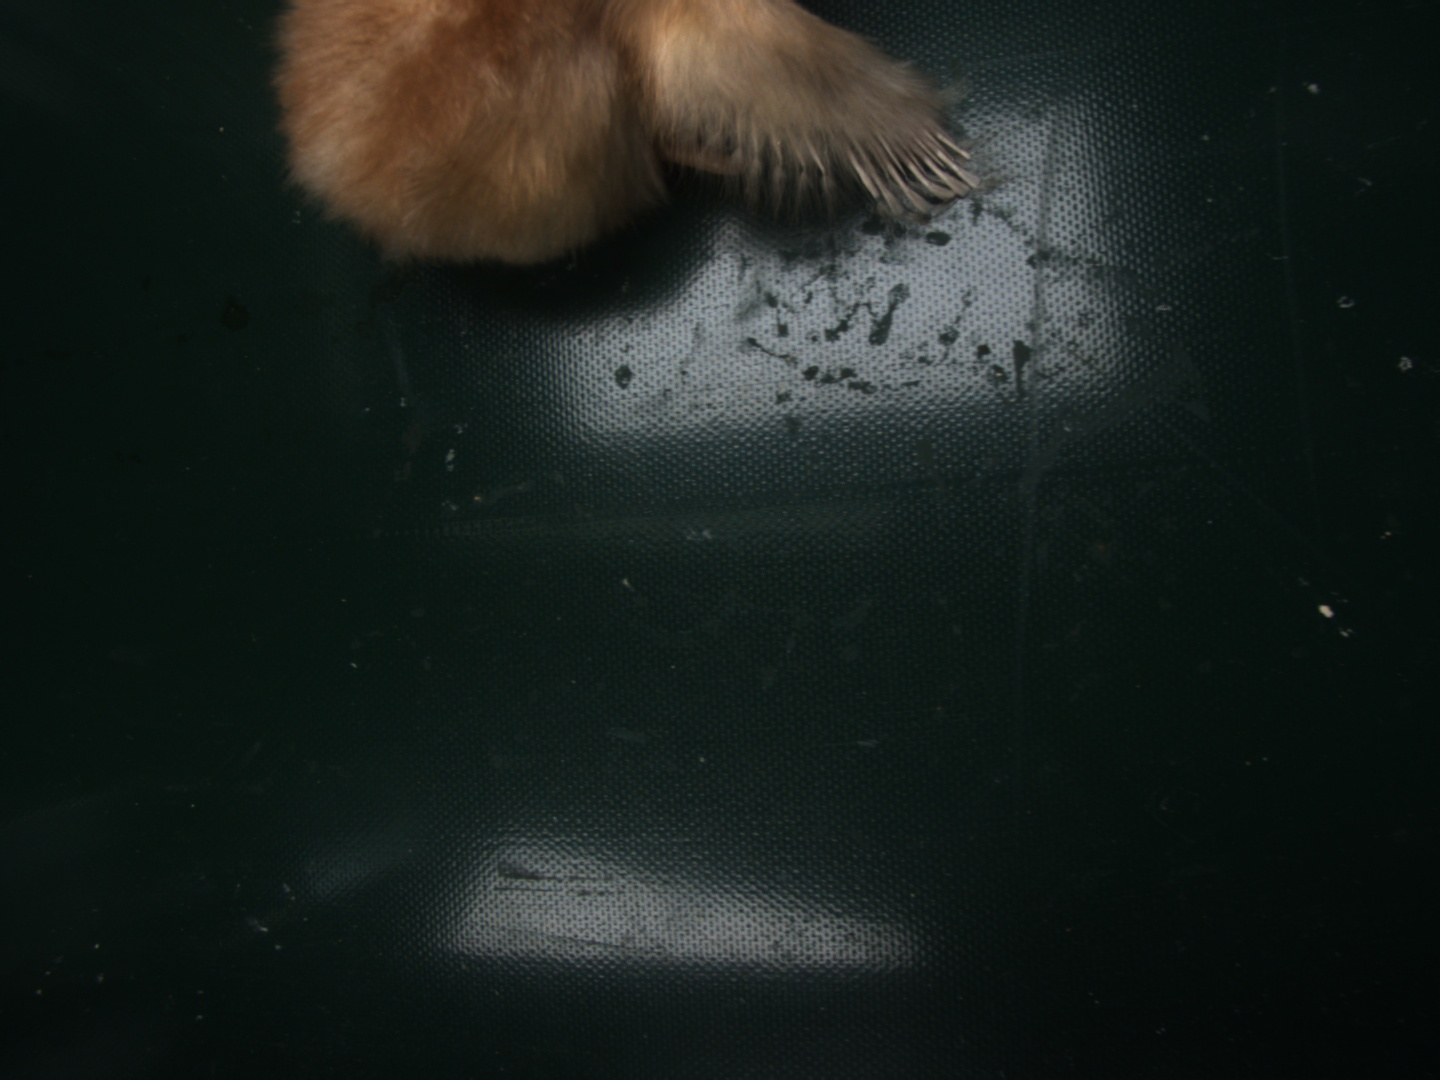female: (844, 115, 982, 223)
